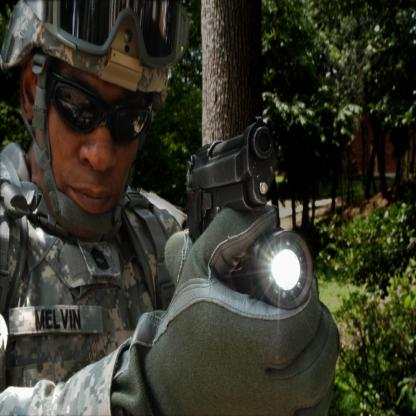Helmet: (0, 0, 187, 239)
